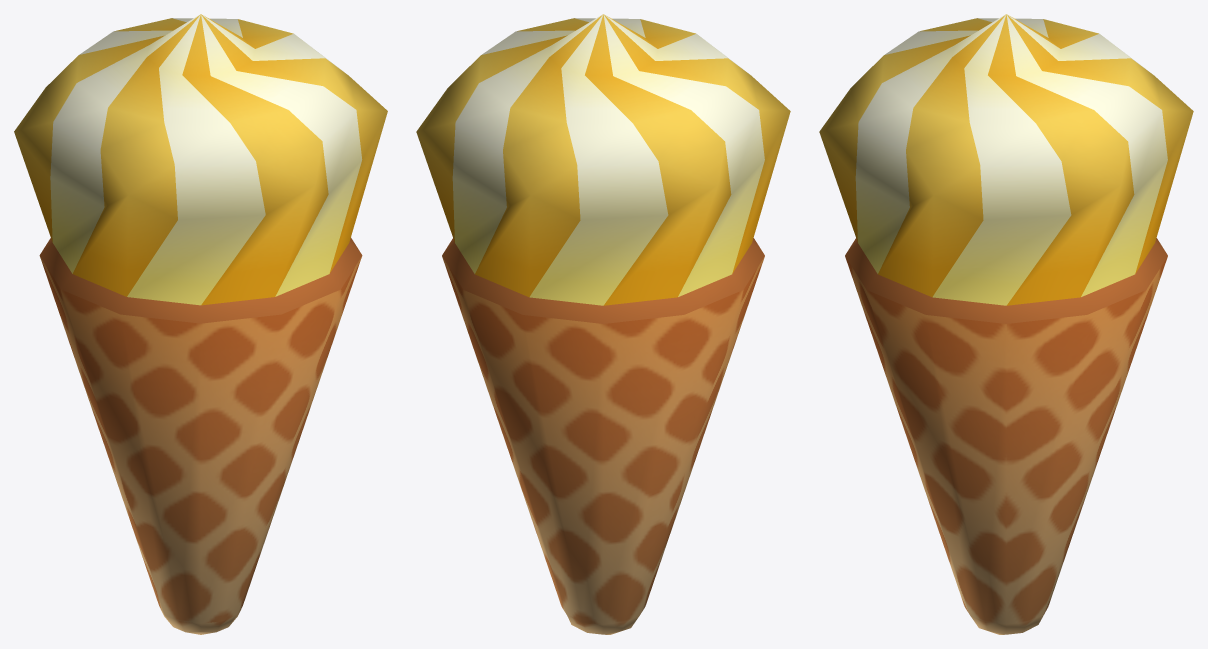
File: m_IceCream18.fbx
The picture shows the model from 3 angles, left to right: view 1: azimuth 30°, elevation 25°; view 2: azimuth 150°, elevation 25°; view 3: azimuth 270°, elevation 25°; orthographic projection.
Visible parts, largest first — view 1: m_IceCream18; view 2: m_IceCream18; view 3: m_IceCream18.
Part boxes in pixels (box(x1,y1,x2,y2)): m_IceCream18: box(14, 14, 387, 634); m_IceCream18: box(416, 14, 790, 634); m_IceCream18: box(819, 14, 1193, 634).
Bounding box in the file's own units: 9.62 × 18.75 × 10.33.
